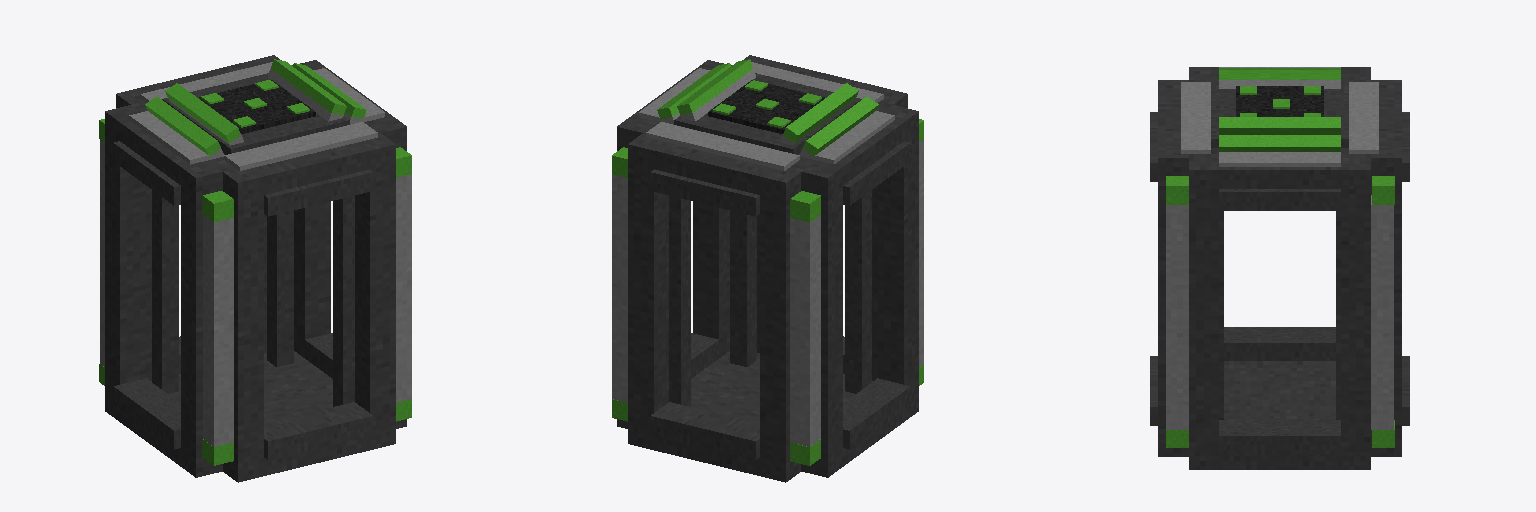
3 renders of one model, left to right at view 1: azimuth 30°, elevation 25°; view 2: azimuth 150°, elevation 25°; view 3: azimuth 270°, elevation 25°, orthographic.
Parts seen in each view (by area): view 1: cube; view 2: cube; view 3: cube.
Part boxes in pixels (bbox=[...]): cube: bbox=[99, 55, 411, 482]; cube: bbox=[612, 55, 923, 482]; cube: bbox=[1150, 67, 1409, 469].
Bounding box in the file's own units: 12.03 × 16.68 × 12.03.
Materials: 1 (1 with a texture image).